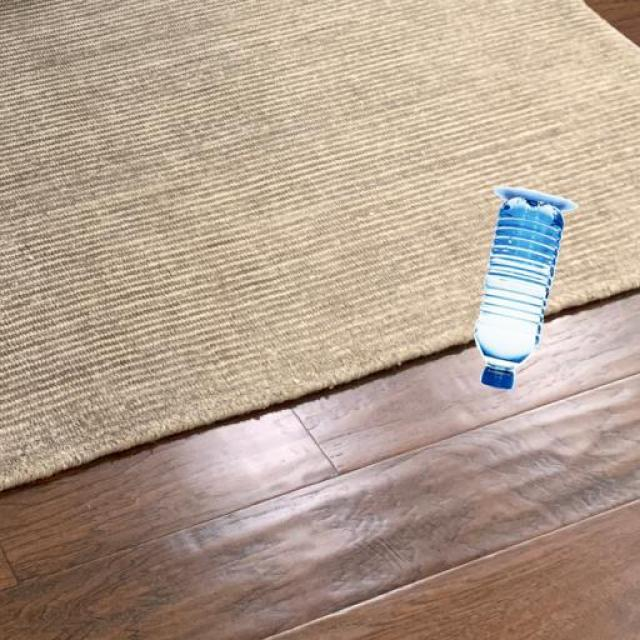bottle: (472, 184, 576, 390)
